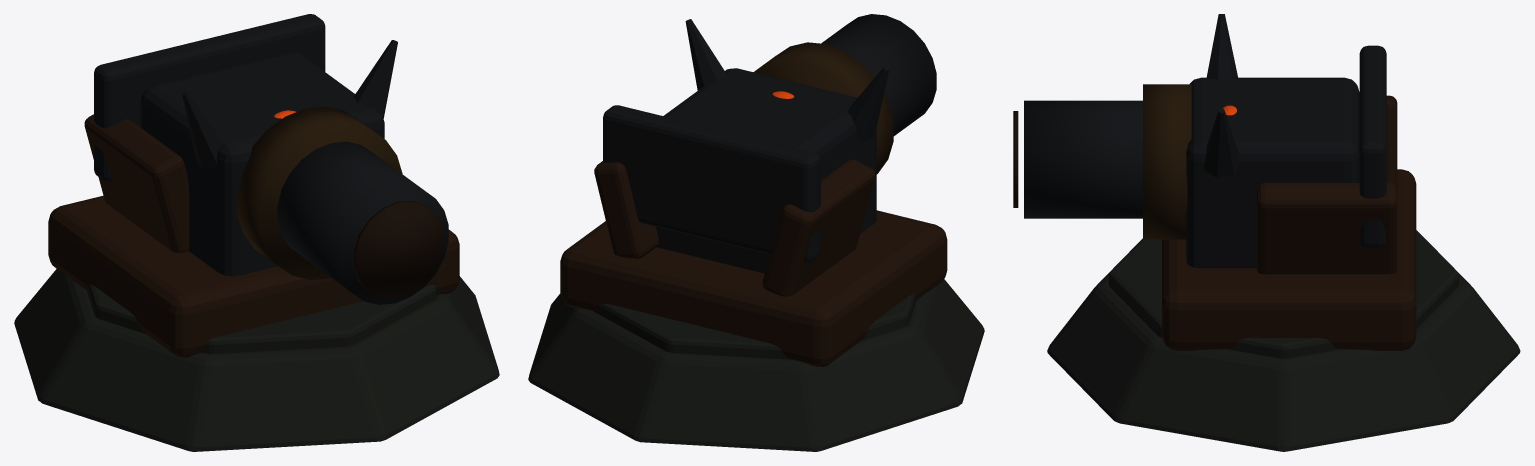
File: TowerChaos1.obj
3 views of the same model, side by side, from view 1: azimuth 30°, elevation 25°; view 2: azimuth 150°, elevation 25°; view 3: azimuth 270°, elevation 25° (orthographic). The views are drawn at different scales.
Visible parts, largest first — view 1: black_stone_furnace_base_lower_course, oak_fire_cradle, iron_furnace_jacket, iron_blast_barrel, iron_furnace_shield, bronze_blast_collar, oak_bellows_arm, black_stone_furnace_base_upper_course, black_fire_mouth, iron_heat_fin, iron_heat_fin.001; view 2: black_stone_furnace_base_lower_course, oak_fire_cradle, iron_furnace_shield, iron_furnace_jacket, oak_bellows_arm, iron_blast_barrel, black_stone_furnace_base_upper_course, bronze_blast_collar, oak_bellows_arm.001, iron_heat_fin, iron_heat_fin.001; view 3: black_stone_furnace_base_lower_course, iron_furnace_jacket, oak_fire_cradle, iron_blast_barrel, oak_bellows_arm.001, black_stone_furnace_base_upper_course, bronze_blast_collar, iron_furnace_shield, iron_heat_fin.001, iron_heat_fin, oak_bellows_arm, black_fire_mouth.
Boxes of the visible parts, left/top/right/bottom form: black_stone_furnace_base_lower_course: left=14, top=269, right=499, bottom=451; oak_fire_cradle: left=48, top=195, right=459, bottom=357; iron_furnace_jacket: left=140, top=52, right=384, bottom=276; iron_blast_barrel: left=277, top=141, right=448, bottom=304; iron_furnace_shield: left=94, top=14, right=325, bottom=181; bronze_blast_collar: left=237, top=106, right=402, bottom=279; oak_bellows_arm: left=84, top=114, right=189, bottom=253; black_stone_furnace_base_upper_course: left=87, top=284, right=436, bottom=354; black_fire_mouth: left=353, top=201, right=444, bottom=297; iron_heat_fin: left=181, top=90, right=226, bottom=169; iron_heat_fin.001: left=353, top=40, right=397, bottom=118; black_stone_furnace_base_lower_course: left=528, top=279, right=984, bottom=451; oak_fire_cradle: left=560, top=210, right=947, bottom=367; iron_furnace_shield: left=603, top=105, right=820, bottom=263; iron_furnace_jacket: left=656, top=68, right=876, bottom=273; oak_bellows_arm: left=762, top=159, right=875, bottom=296; iron_blast_barrel: left=821, top=14, right=936, bottom=135; black_stone_furnace_base_upper_course: left=593, top=294, right=916, bottom=359; bronze_blast_collar: left=753, top=42, right=893, bottom=174; oak_bellows_arm.001: left=594, top=161, right=658, bottom=258; iron_heat_fin: left=847, top=66, right=888, bottom=141; iron_heat_fin.001: left=685, top=19, right=727, bottom=90; black_stone_furnace_base_lower_course: left=1047, top=246, right=1520, bottom=451; iron_furnace_jacket: left=1186, top=77, right=1359, bottom=268; oak_fire_cradle: left=1162, top=169, right=1416, bottom=350; iron_blast_barrel: left=1024, top=100, right=1142, bottom=218; oak_bellows_arm.001: left=1256, top=183, right=1397, bottom=274; black_stone_furnace_base_upper_course: left=1108, top=230, right=1458, bottom=358; bronze_blast_collar: left=1143, top=84, right=1191, bottom=239; iron_furnace_shield: left=1359, top=45, right=1386, bottom=248; iron_heat_fin.001: left=1204, top=108, right=1238, bottom=177; iron_heat_fin: left=1206, top=14, right=1237, bottom=80; oak_bellows_arm: left=1386, top=95, right=1397, bottom=189; black_fire_mouth: left=1013, top=111, right=1018, bottom=207.
Size of the model in its own units: 1.75 by 1.19 by 1.87.
